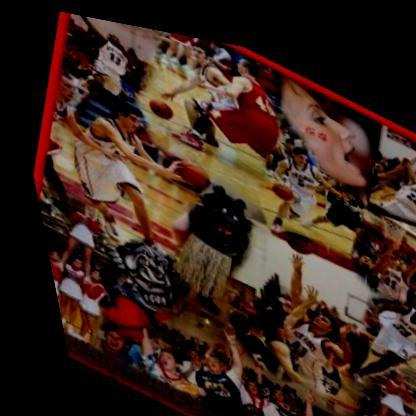basketball: (156, 140, 217, 195), (132, 81, 187, 129), (270, 212, 319, 257), (258, 163, 300, 203), (402, 212, 416, 251), (406, 295, 416, 336), (401, 120, 416, 147)
